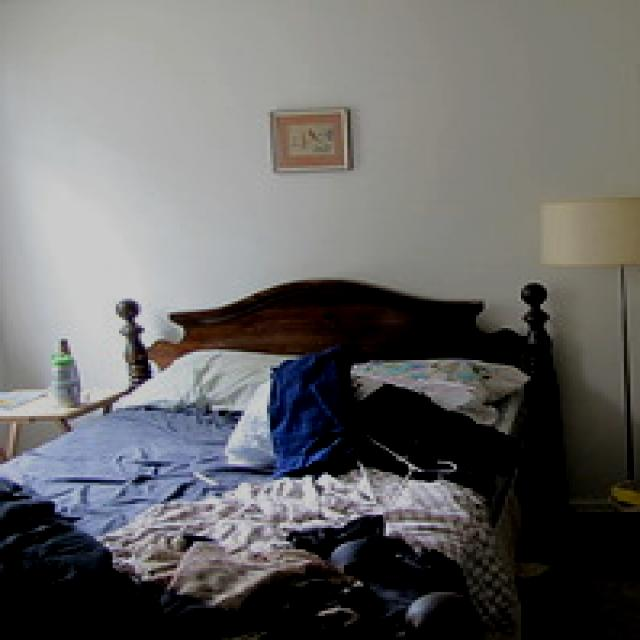bed: (9, 290, 543, 640)
